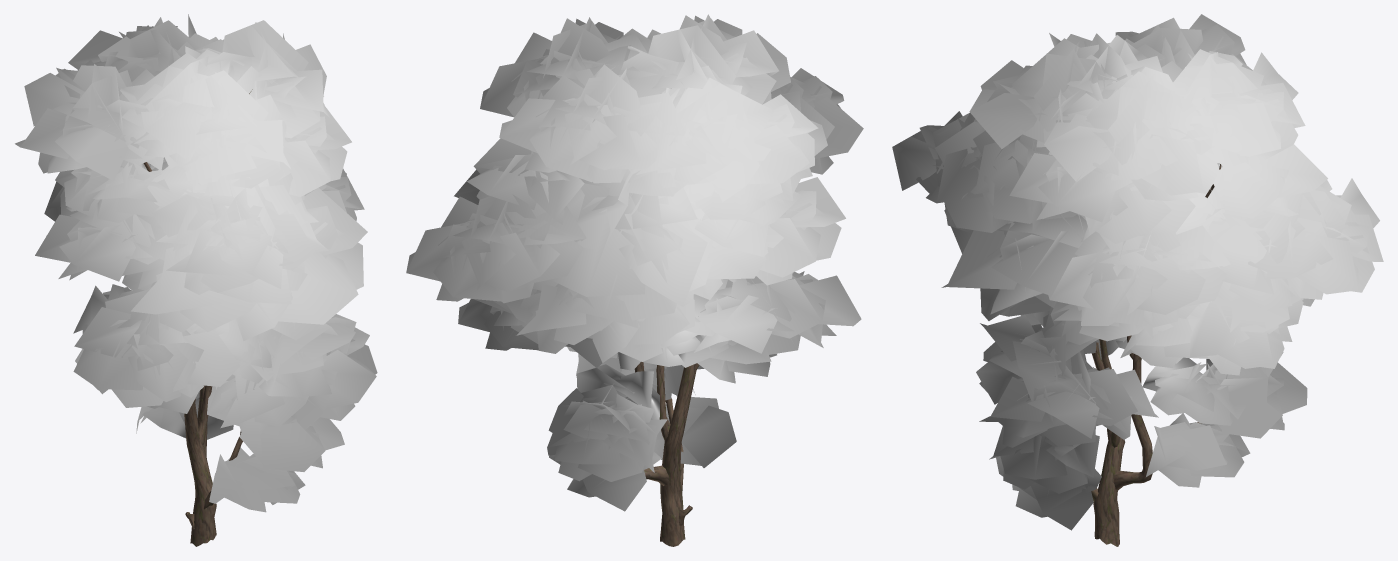
Rendered from SM_EastLands_Osmanthus_01_Trunk.fbx.
3 views of the same model, side by side, from view 1: azimuth 30°, elevation 25°; view 2: azimuth 150°, elevation 25°; view 3: azimuth 270°, elevation 25° (orthographic). The views are drawn at different scales.
Parts seen in each view (by area): view 1: SM_EastLands_Osmanthus_01_Trunk_LOD0; view 2: SM_EastLands_Osmanthus_01_Trunk_LOD0; view 3: SM_EastLands_Osmanthus_01_Trunk_LOD0.
Part boxes in pixels (x1,y1,x2,y2): SM_EastLands_Osmanthus_01_Trunk_LOD0: [15, 14, 377, 546]; SM_EastLands_Osmanthus_01_Trunk_LOD0: [406, 14, 863, 546]; SM_EastLands_Osmanthus_01_Trunk_LOD0: [892, 14, 1383, 546].
Size of the model in its own units: 1028 by 1471 by 1296.
